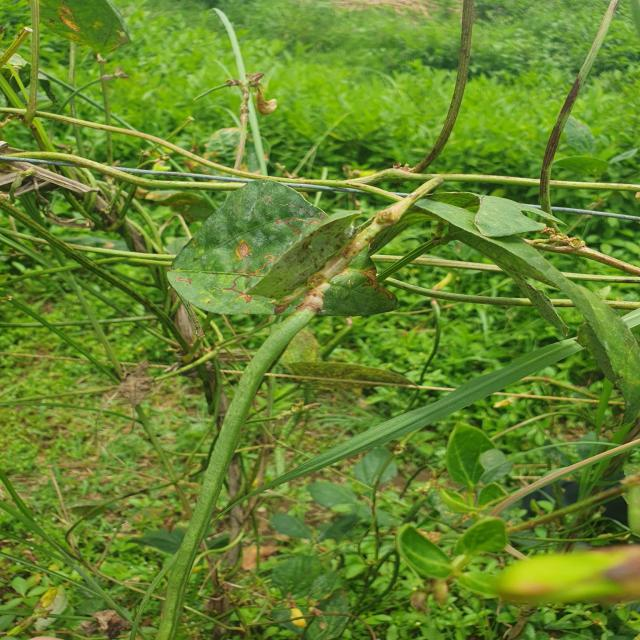leaf-low: (158, 296, 320, 640)
